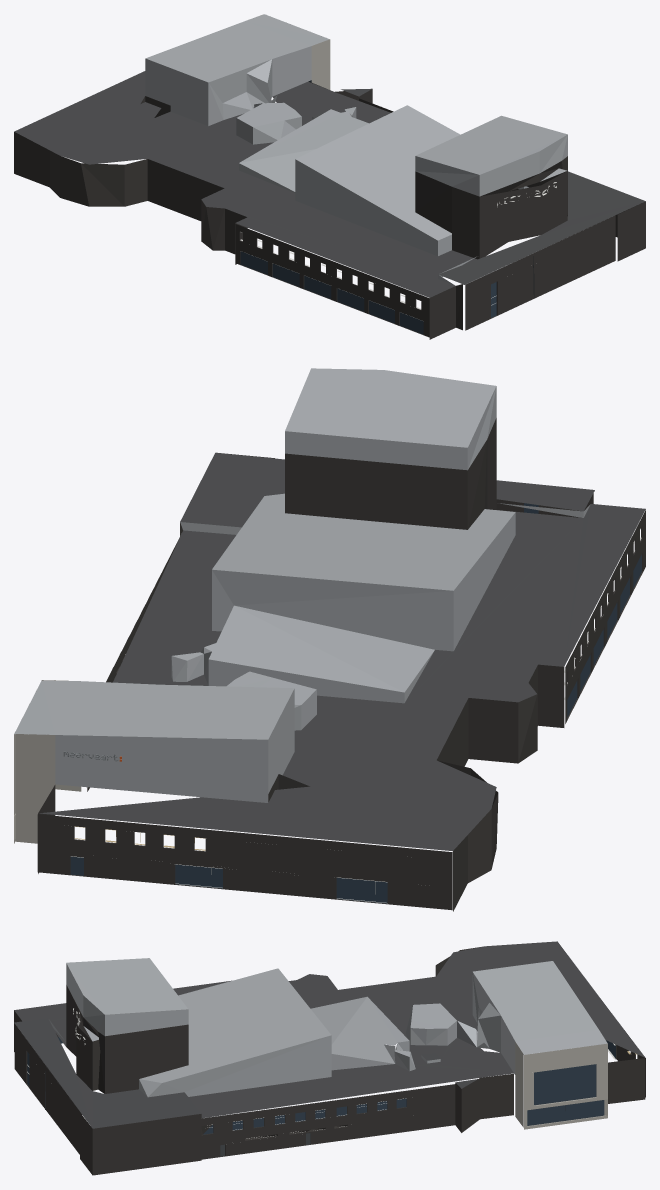
File: meervaart.lod1.glb
3 views of the same model, one above another, from view 1: azimuth 30°, elevation 25°; view 2: azimuth 150°, elevation 25°; view 3: azimuth 270°, elevation 25° (orthographic). The views are drawn at different scales.
Visible parts, largest first — view 1: meervaart; view 2: meervaart; view 3: meervaart.
Boxes of the visible parts, x1,y1,x2,y2 form: meervaart: (14,14,645,339); meervaart: (14,368,645,911); meervaart: (14,941,645,1175).
Bounding box in the file's own units: 76.18 × 23.66 × 106.
